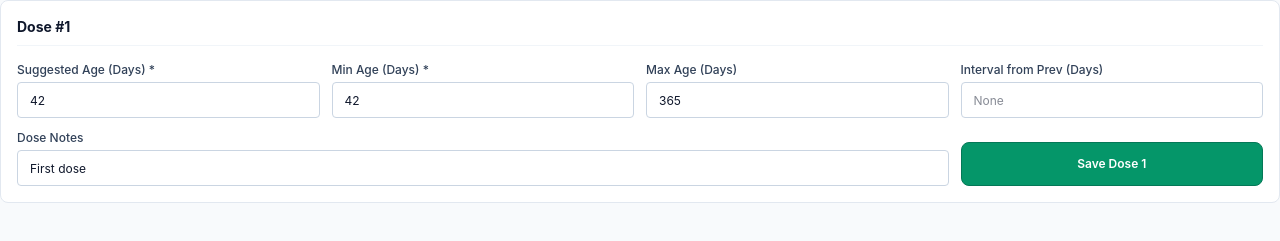
Scenario: ScheduleItemForm component › prevents submission when minAgeDays > suggestedAgeDays with client error
The width and height of the screenshot is (1280, 241).
Replace the text in the number field labelled "Min Age (Days) *" with "60". click: (483, 100)
box: [332,82,634,118]
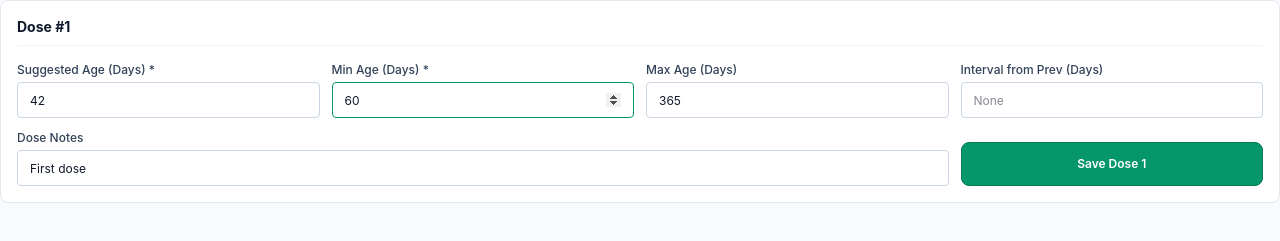
Click the button "Save Dose 1". click: (1112, 164)
box: [960,142,1263,186]
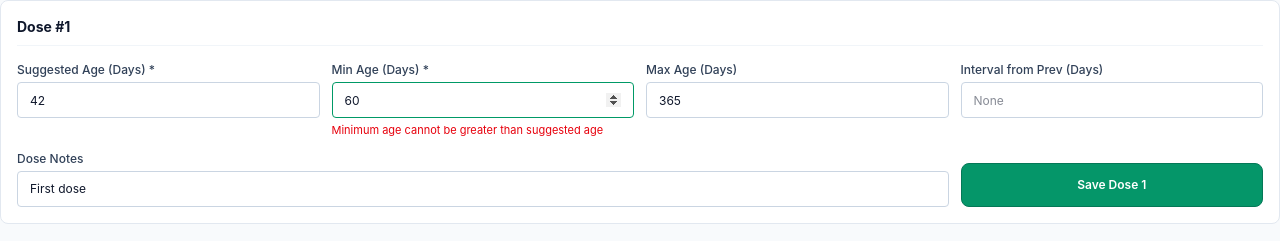
Expected: the text "Minimum age cannot be greater than suggested age" is shown, [332,122,634,138]
